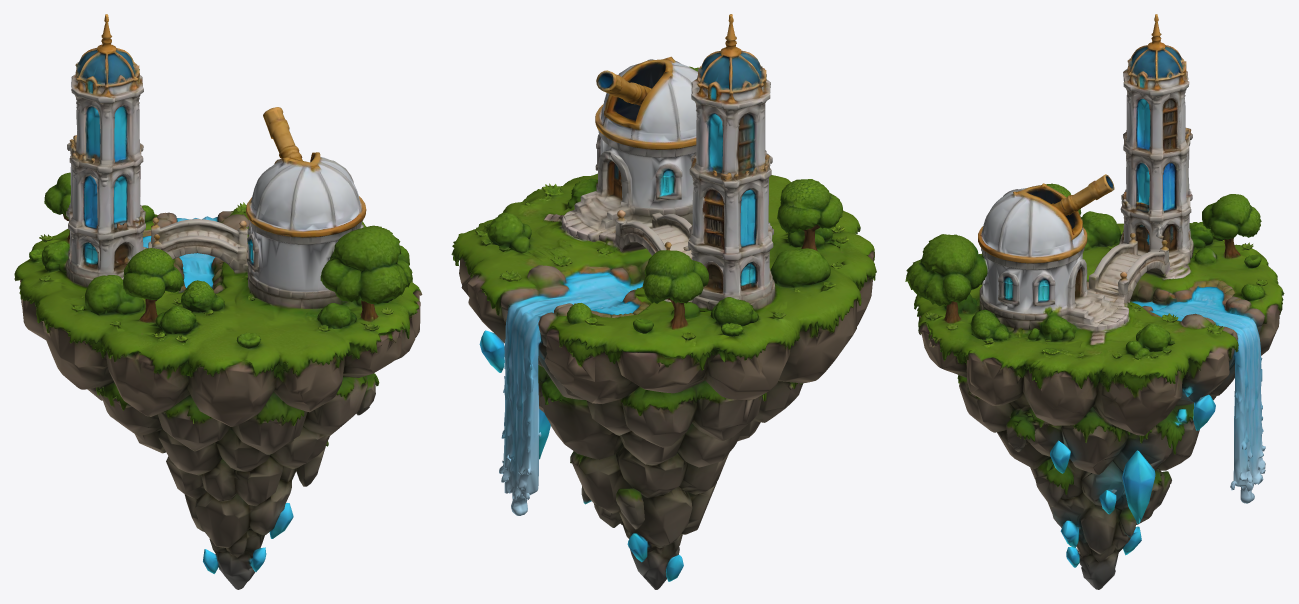
The model's file is island.glb.
3 renders of one model, left to right at view 1: azimuth 30°, elevation 25°; view 2: azimuth 150°, elevation 25°; view 3: azimuth 270°, elevation 25°, orthographic. The views are drawn at different scales.
Visible parts, largest first — view 1: tripo_node_a589e4ee-c062-437e-9c1a-4007b24e5f60; view 2: tripo_node_a589e4ee-c062-437e-9c1a-4007b24e5f60; view 3: tripo_node_a589e4ee-c062-437e-9c1a-4007b24e5f60.
Boxes of the visible parts, left/top/right/bottom form: tripo_node_a589e4ee-c062-437e-9c1a-4007b24e5f60: left=14, top=14, right=422, bottom=589; tripo_node_a589e4ee-c062-437e-9c1a-4007b24e5f60: left=451, top=14, right=876, bottom=589; tripo_node_a589e4ee-c062-437e-9c1a-4007b24e5f60: left=905, top=14, right=1284, bottom=589.
Size of the model in its own units: 0.5997 by 0.979 by 0.6348.
1 material, 1 textured.
